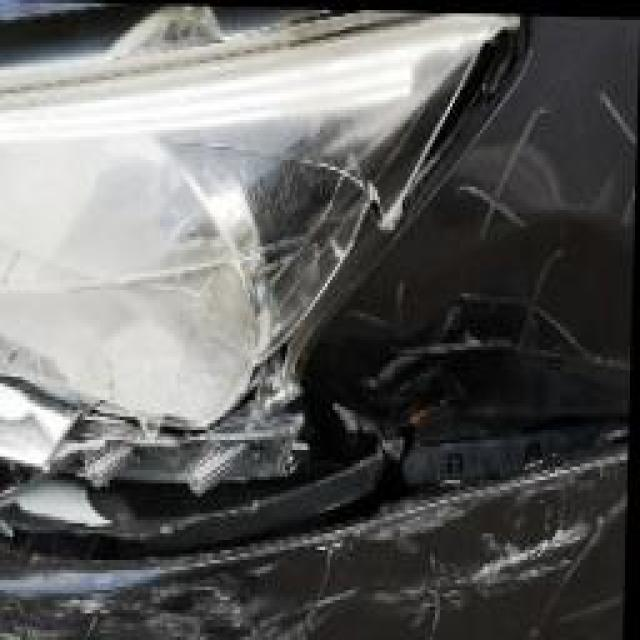Bumper: (0, 437, 630, 640)
Light: (0, 3, 489, 438)
